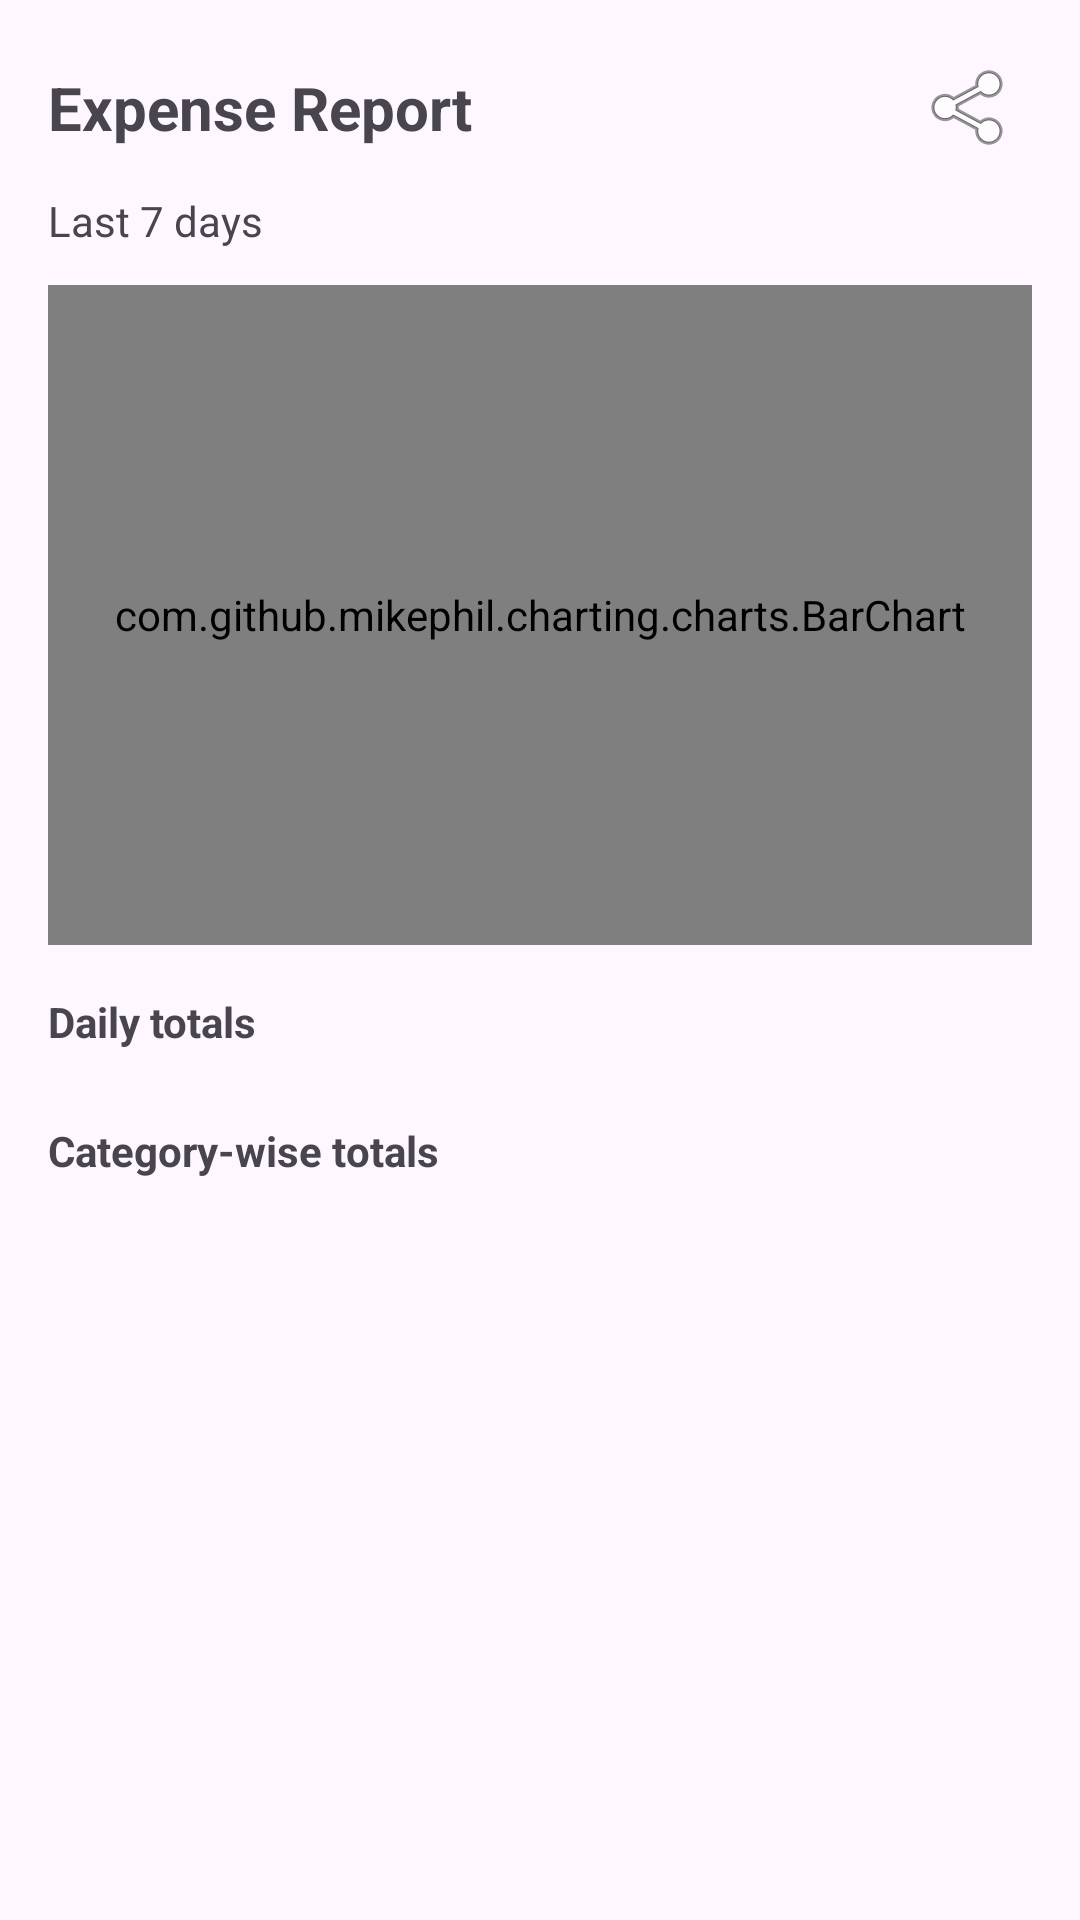

Icon bounding boxes for this 1080px×1920px phone screenshot, format (x1, y1, x2, y2):
Share: (931, 70, 1003, 145)
